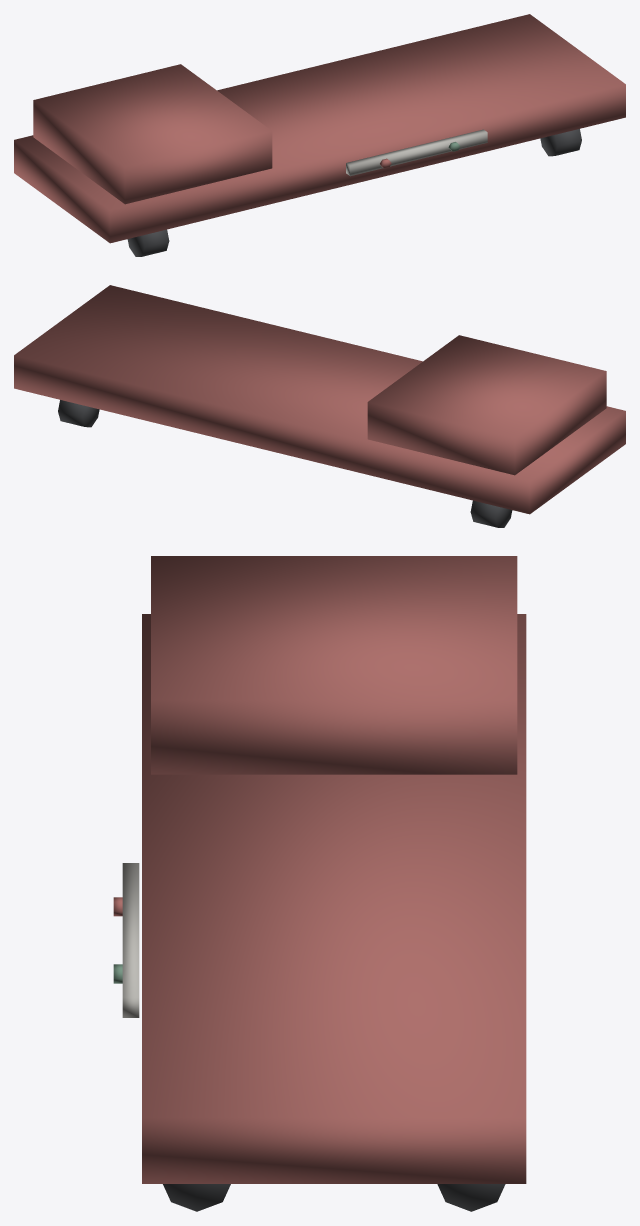
File: mechanic_creeper__wide.glb
The picture shows the model from 3 angles, top to bottom: view 1: azimuth 30°, elevation 25°; view 2: azimuth 150°, elevation 25°; view 3: azimuth 270°, elevation 25°; orthographic projection. The views are drawn at different scales.
Visible parts, largest first — view 1: world; view 2: world; view 3: world.
Boxes of the visible parts, x1,y1,x2,y2 form: world: (14,14,625,256); world: (14,285,625,527); world: (113,556,526,1211).
Size of the model in its own units: 1.3 by 0.25 by 0.451.
